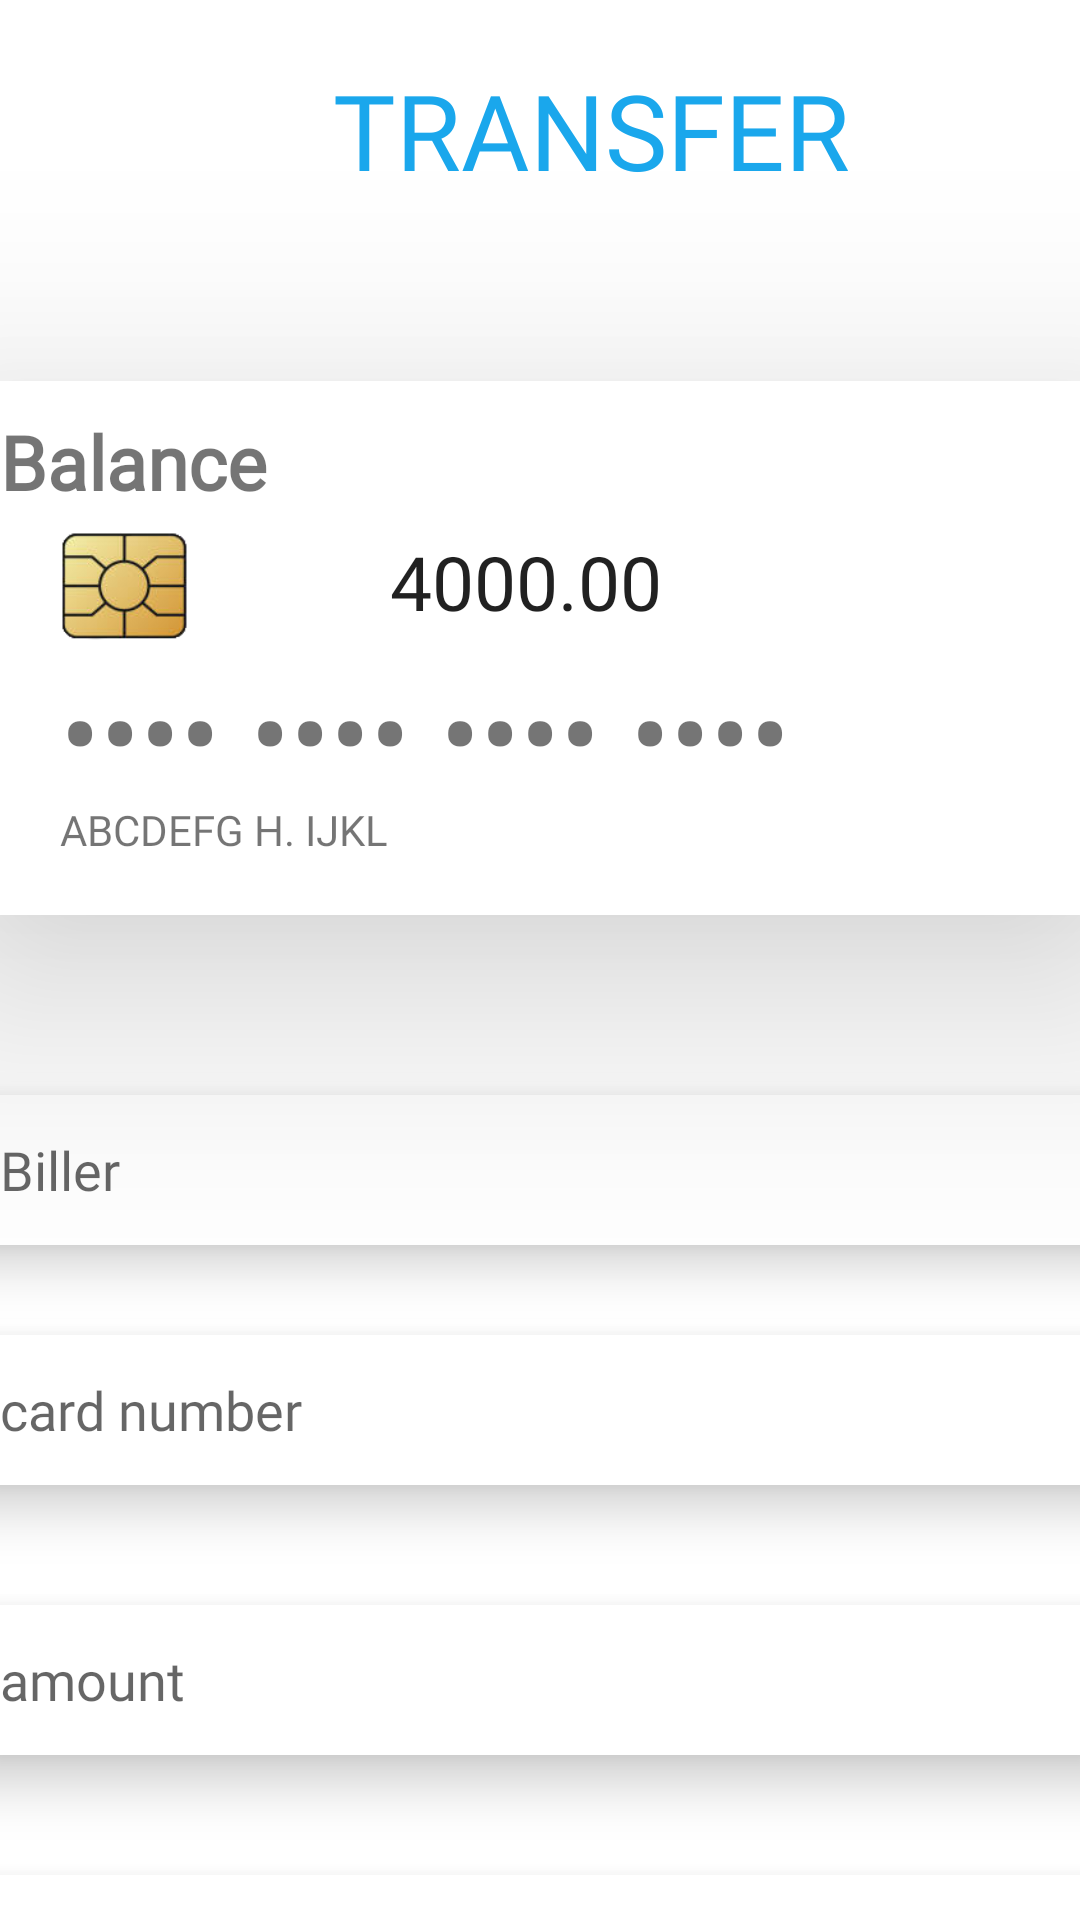

Screen size 1080 × 1920. Icon name, then its center in pixels as (x,y):
sim: (124,586)
